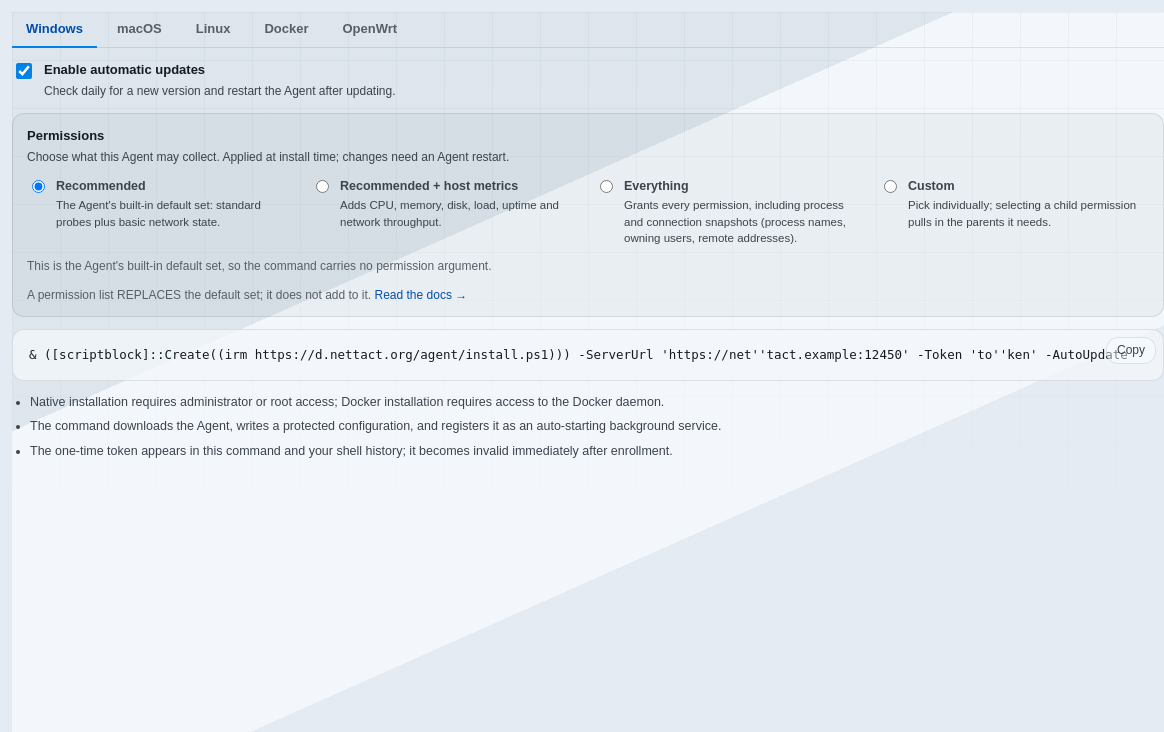
EnrollExamples copy button › says so instead of confirming a copy that never happened
The width and height of the screenshot is (1164, 732).
Step 1. Click the button with class "copy" → (1131, 350), box [1106, 337, 1156, 364]
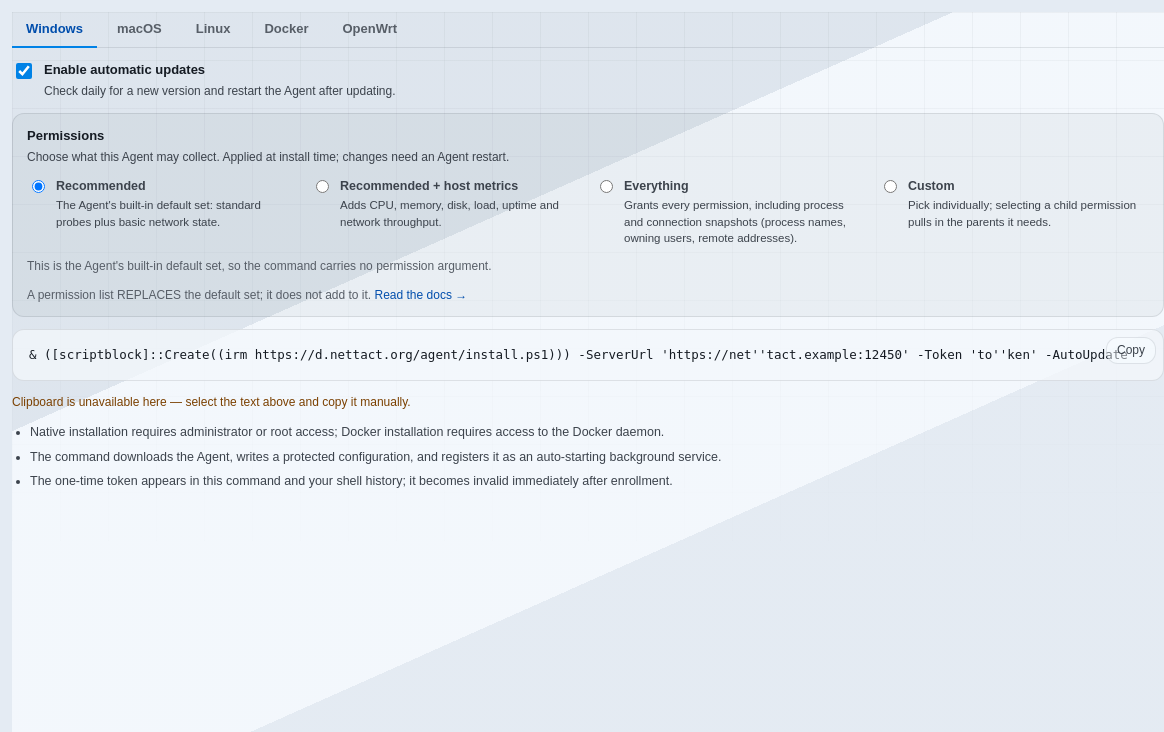
Expected: the text with class "copy-failed" reads "Clipboard is unavailable here — select the text above and copy it manually.", [12, 395, 411, 409]
